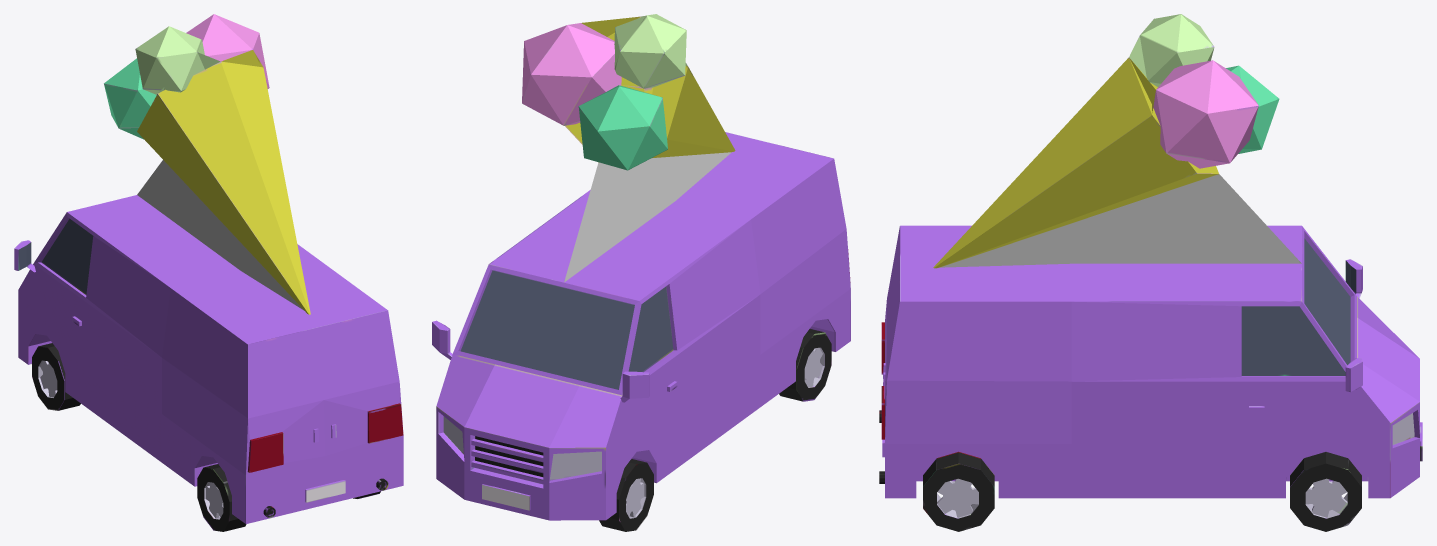
3 views of the same model, side by side, from view 1: azimuth 30°, elevation 25°; view 2: azimuth 150°, elevation 25°; view 3: azimuth 270°, elevation 25° (orthographic). The views are drawn at different scales.
Parts seen in each view (by area): view 1: Van wheel rear left; view 2: Van wheel rear left; view 3: Van wheel rear left.
Boxes of the visible parts, box(x1,y1,x2,y2) form: Van wheel rear left: box(14, 14, 403, 531); Van wheel rear left: box(432, 14, 850, 531); Van wheel rear left: box(879, 14, 1422, 531).
Bounding box in the file's own units: 1.3 × 2.57 × 2.73.
1 material, 1 textured.
